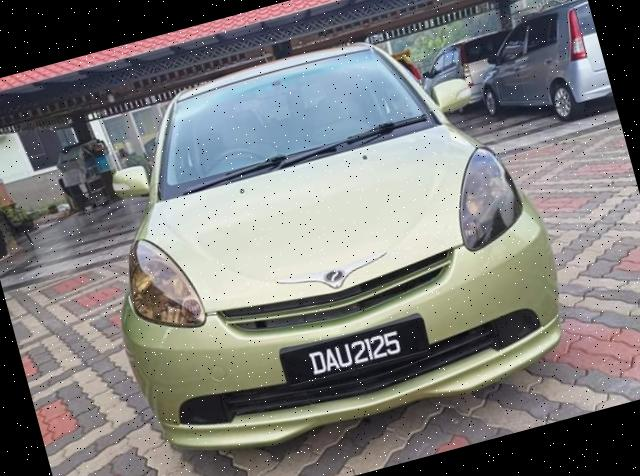License_Plate: (285, 316, 437, 392)
car: (46, 1, 584, 476)
